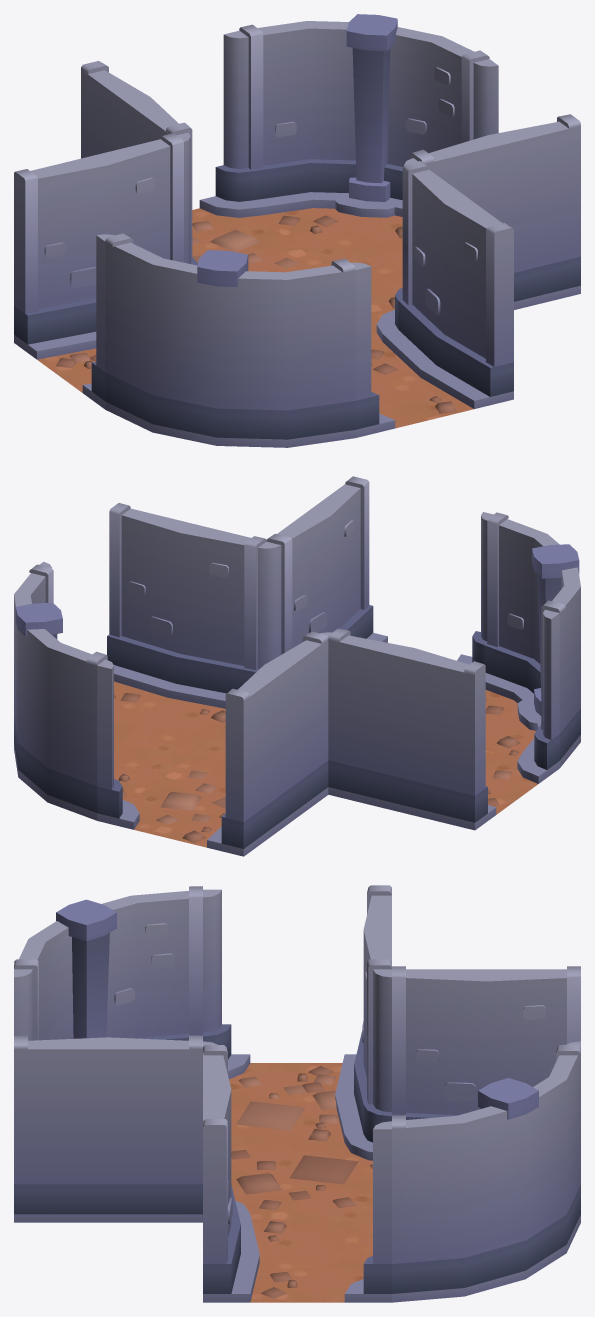
The model's file is kenney-modular-dungeon-room-small-variation.glb.
The picture shows the model from 3 angles, top to bottom: view 1: azimuth 30°, elevation 25°; view 2: azimuth 150°, elevation 25°; view 3: azimuth 270°, elevation 25°; orthographic projection. The views are drawn at different scales.
Visible parts, largest first — view 1: room-small-variation; view 2: room-small-variation; view 3: room-small-variation.
Boxes of the visible parts, x1,y1,x2,y2 form: room-small-variation: (14, 14, 580, 447); room-small-variation: (14, 476, 580, 856); room-small-variation: (14, 885, 580, 1302).
Bounding box in the file's own units: 12 × 4.23 × 12.
Materials: 1 (1 with a texture image).
